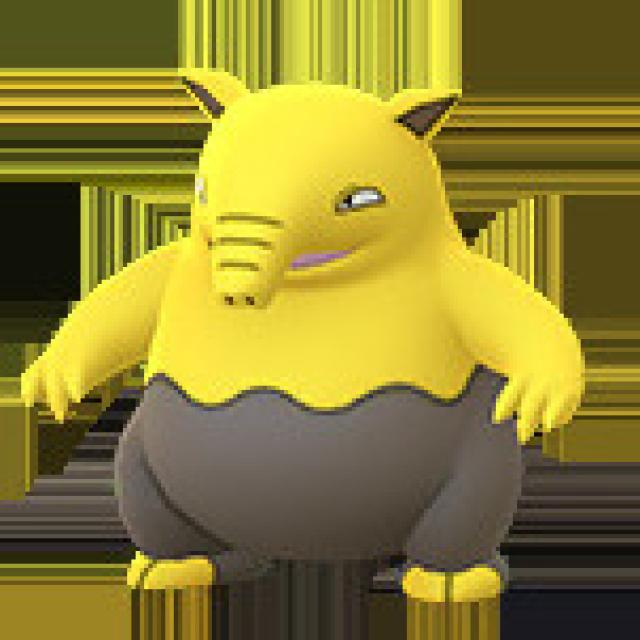Drowzee: (8, 76, 584, 603)
